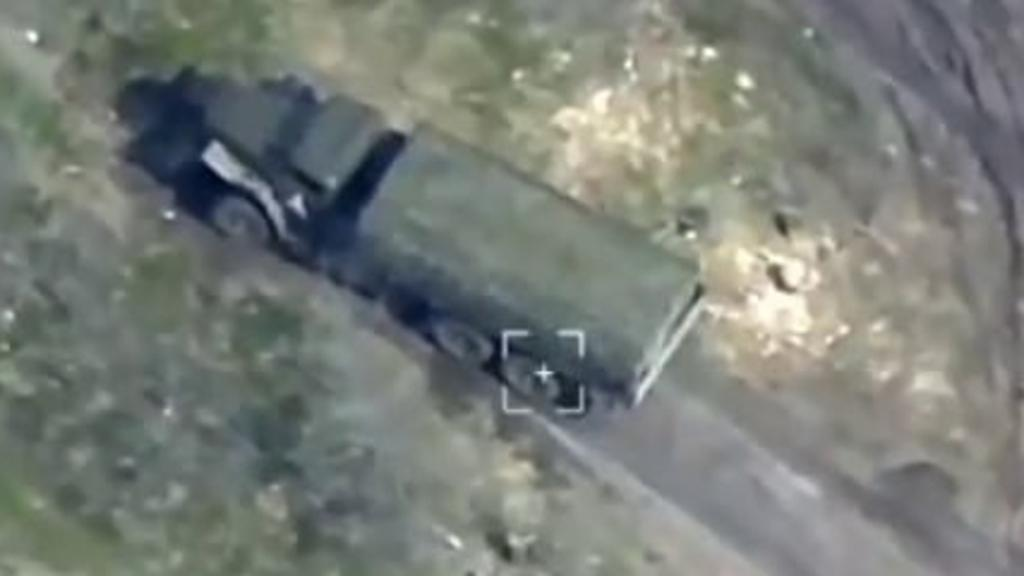TRUCK: (166, 71, 702, 427)
